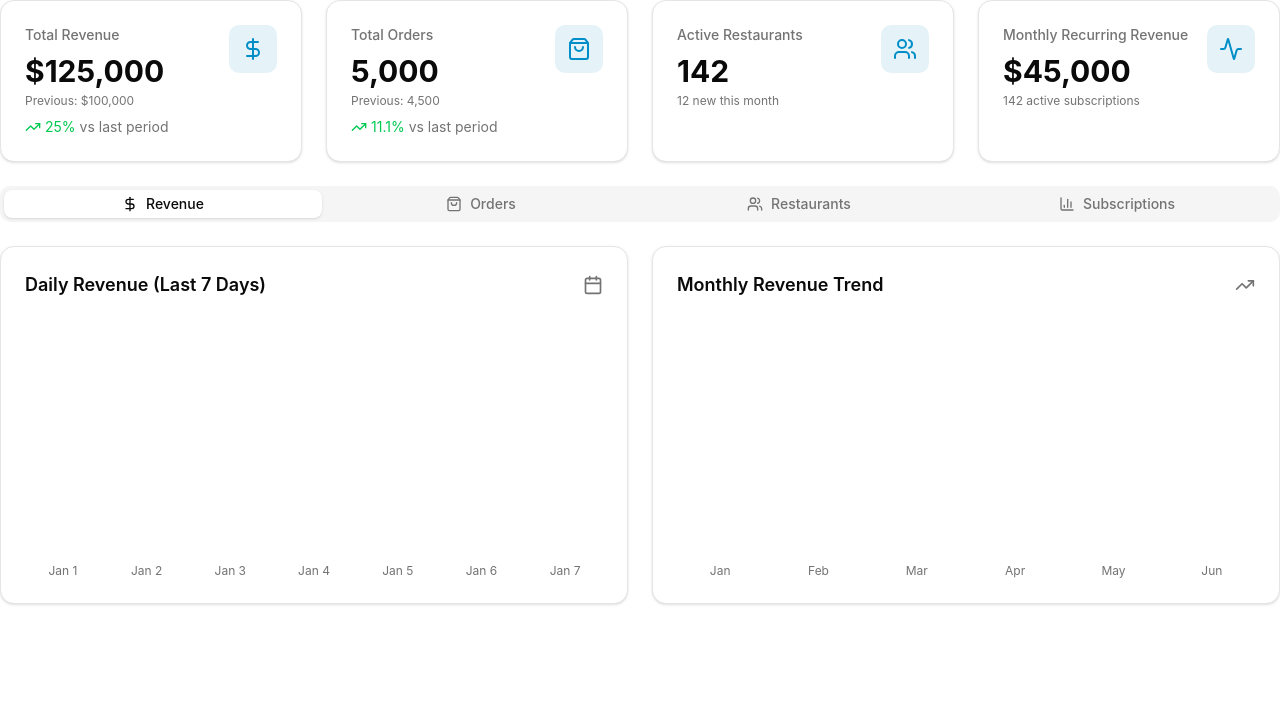
Test: PlatformAnalytics › displays top restaurants correctly
// Switch to restaurants tab
Click the tab "Restaurants": (799, 204) [640,190,958,218]
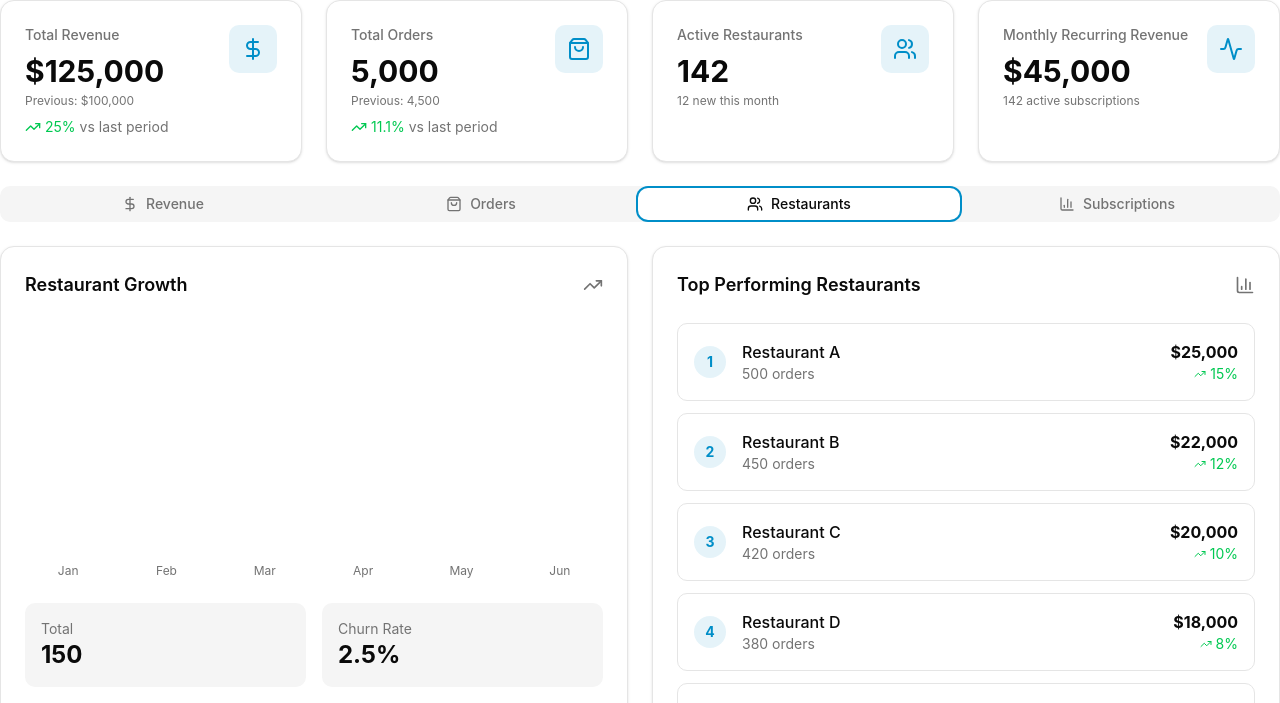
Check: the text "Restaurant A" is shown, box [742,340,840,364]
Check: the text "$25,000" is shown, box [1171,340,1238,364]
Check: the text "500 orders" is shown, box [742,365,815,382]
